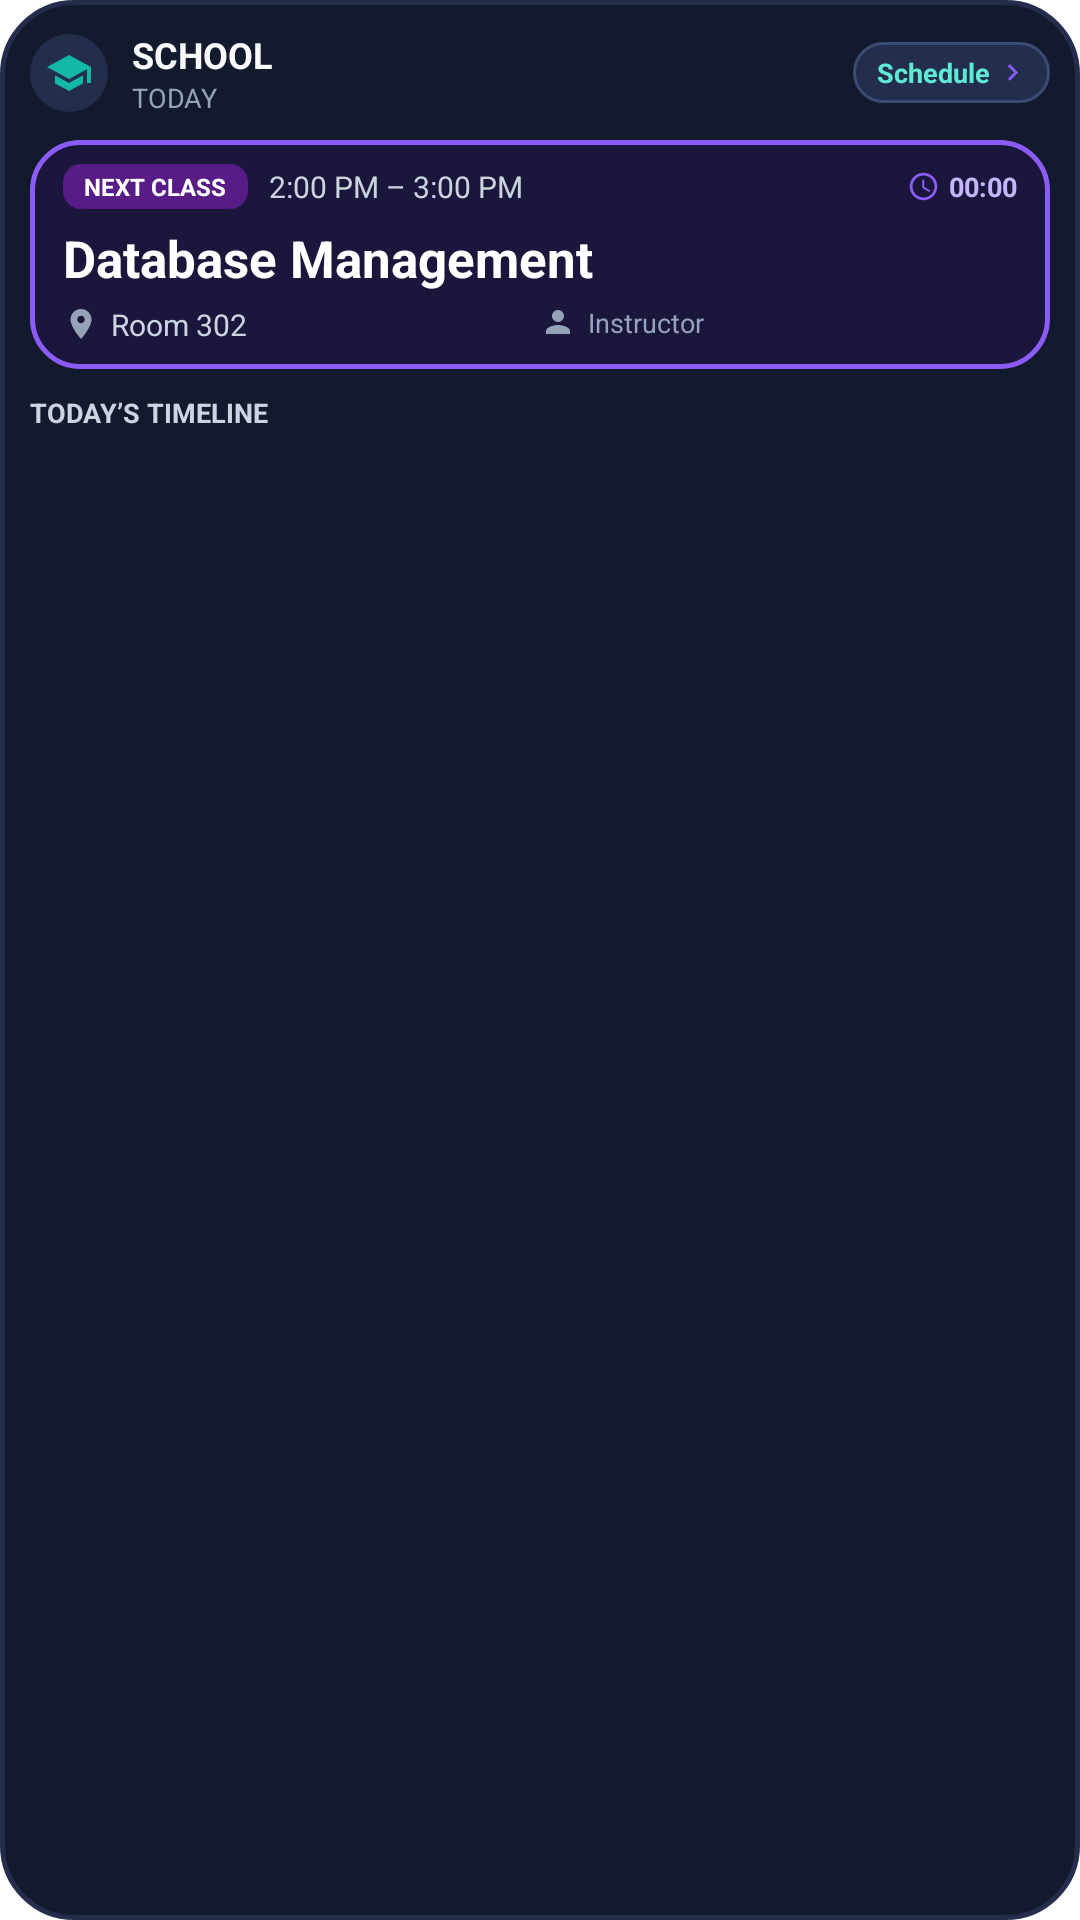

Icon click points for this 1080x1920 phone screenshot, format (x,y):
Countdown: (923,186)
